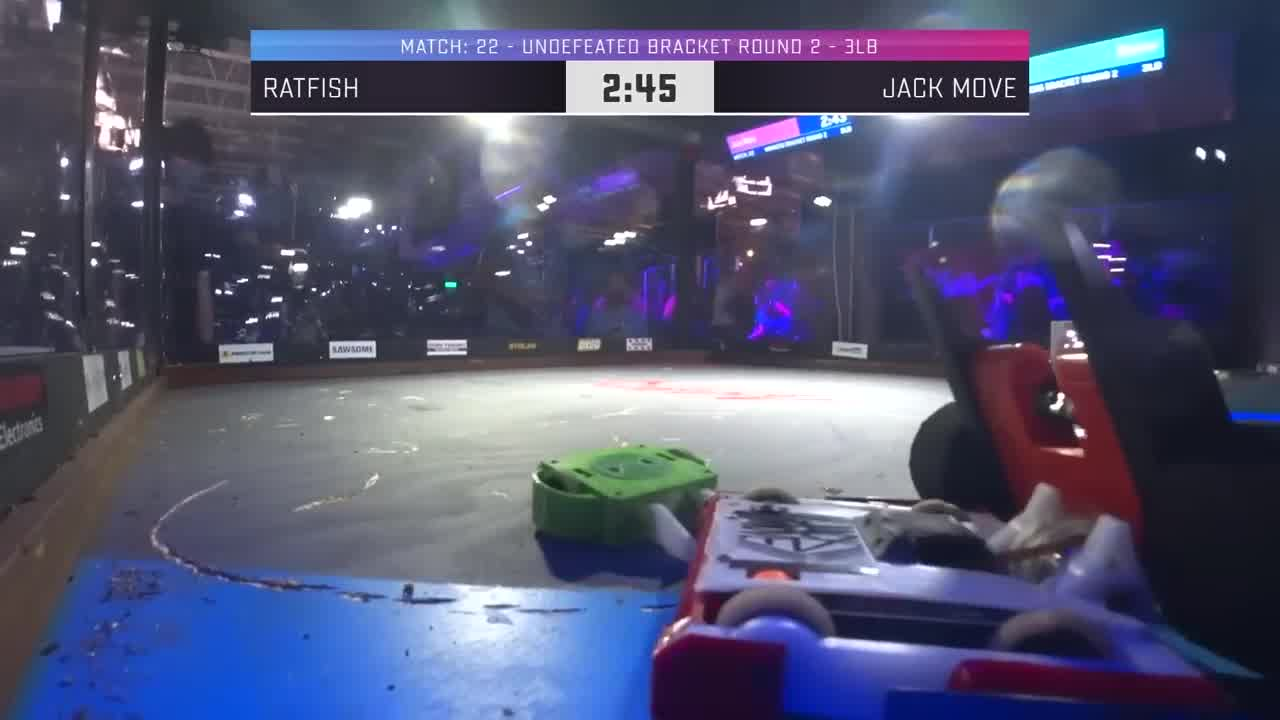combatbot: (652, 486, 1239, 720), (905, 218, 1273, 556)
minibot: (530, 442, 716, 558)
